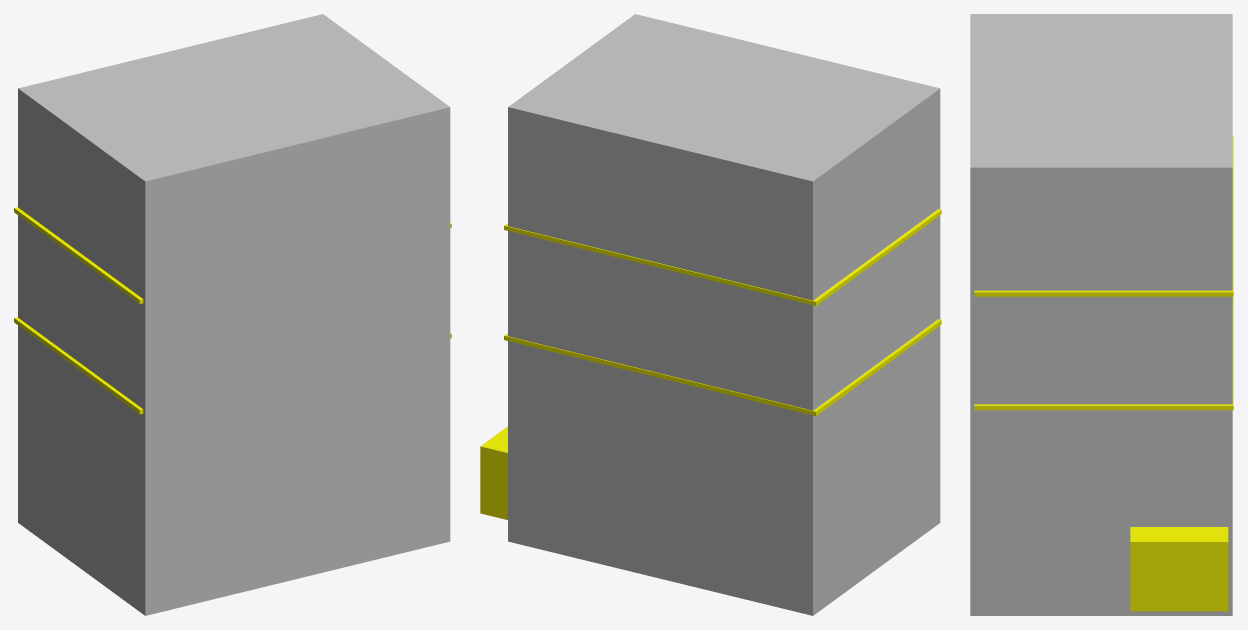
File: sm_hana_bas_exhaust_deodorization_unit.glb
3 renders of one model, left to right at view 1: azimuth 30°, elevation 25°; view 2: azimuth 150°, elevation 25°; view 3: azimuth 270°, elevation 25°, orthographic. The views are drawn at different scales.
Visible parts, largest first — view 1: sm_color_common, sm_hana_bas_exhaust_deodorization_unit; view 2: sm_color_common, sm_hana_bas_exhaust_deodorization_unit; view 3: sm_color_common, sm_hana_bas_exhaust_deodorization_unit.
Part boxes in pixels (left/top/right/bottom): sm_color_common: left=18, top=14, right=450, bottom=615; sm_hana_bas_exhaust_deodorization_unit: left=14, top=207, right=451, bottom=414; sm_color_common: left=508, top=14, right=940, bottom=615; sm_hana_bas_exhaust_deodorization_unit: left=480, top=209, right=941, bottom=519; sm_color_common: left=970, top=14, right=1232, bottom=615; sm_hana_bas_exhaust_deodorization_unit: left=974, top=135, right=1233, bottom=611.
Size of the model in its own units: 2.63 by 3.22 by 1.72.
Materials: 2 (1 with a texture image).
